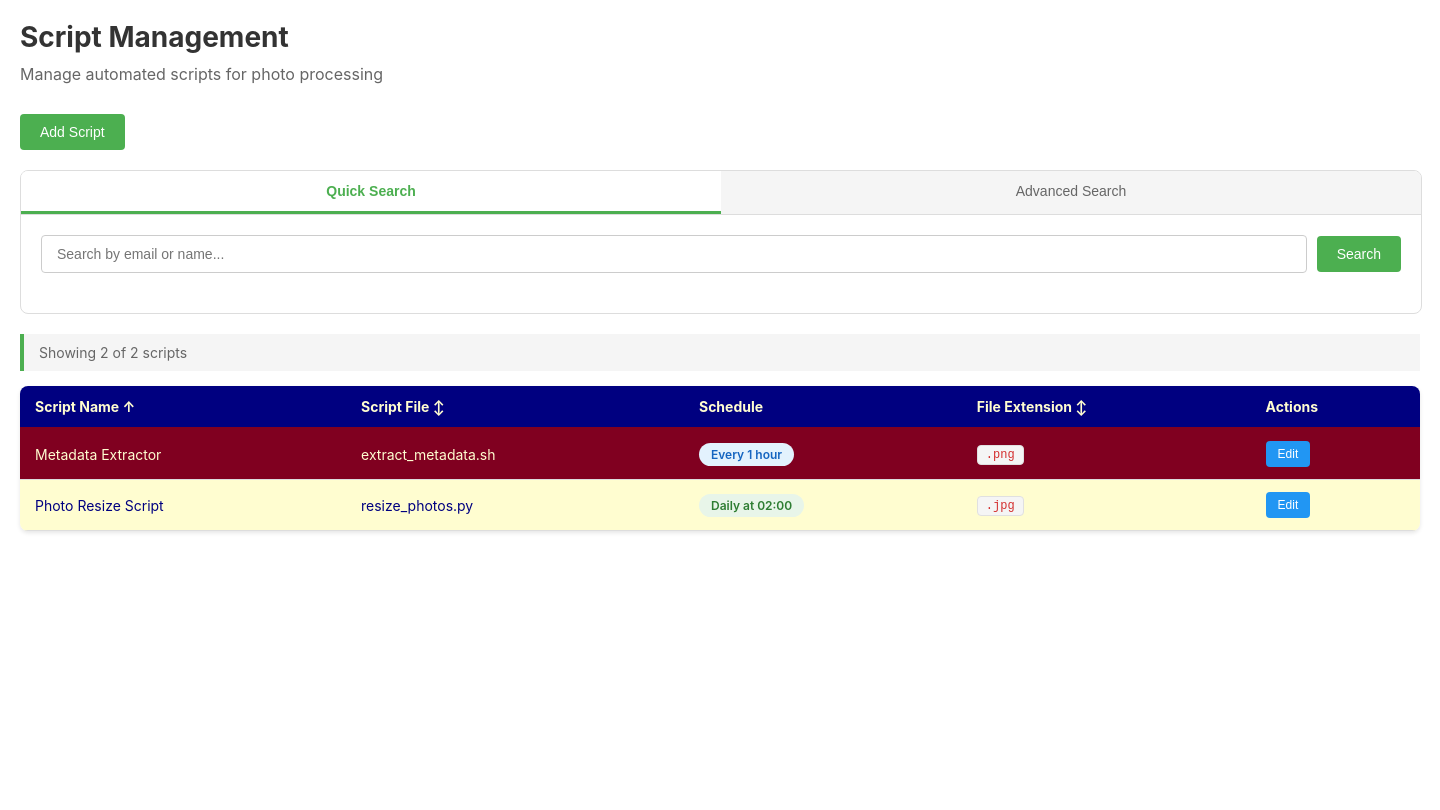
Test: Scripts Page › opens dialog when Edit button clicked
Expected: the text "Photo Resize Script" is shown, [20,480,346,530]
Click the button "Edit" in the row of "Metadata Extractor": (1288, 454) [1266,441,1310,467]
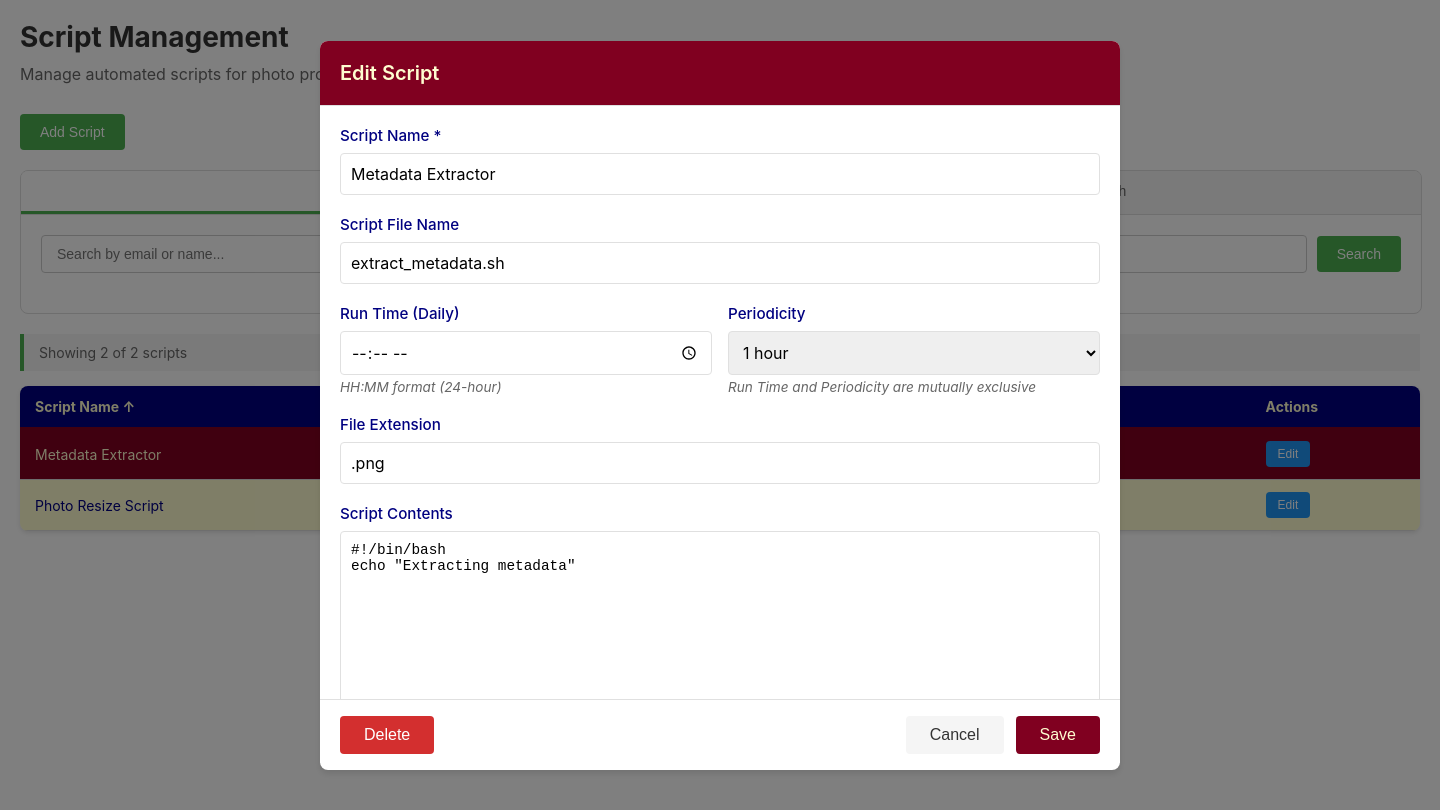
Expected: the element with test id "edit-script-dialog-overlay" is shown
